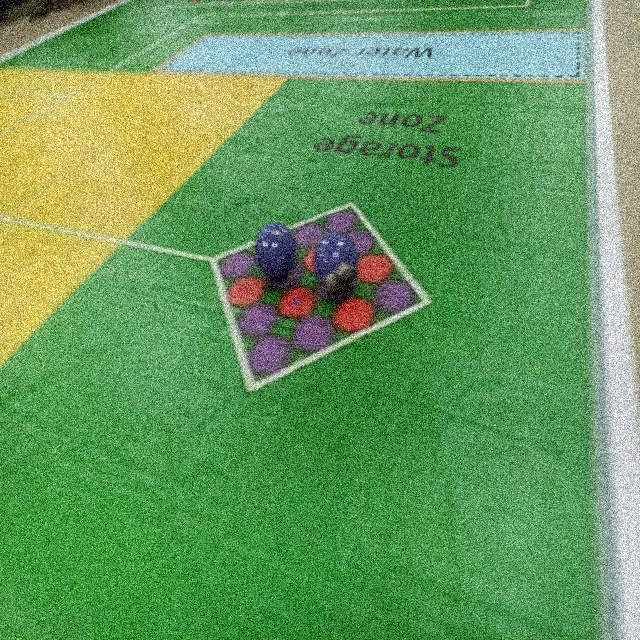purple_ball: (252, 224, 299, 284), (313, 232, 355, 295)
